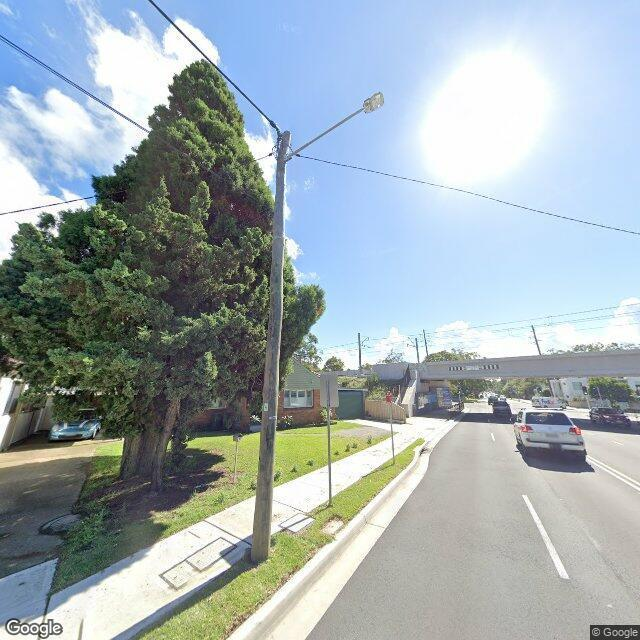streetlight: (286, 90, 386, 162)
timber-pole: (251, 130, 291, 564), (531, 325, 553, 395), (423, 330, 429, 357), (358, 332, 361, 367), (416, 338, 420, 362)
